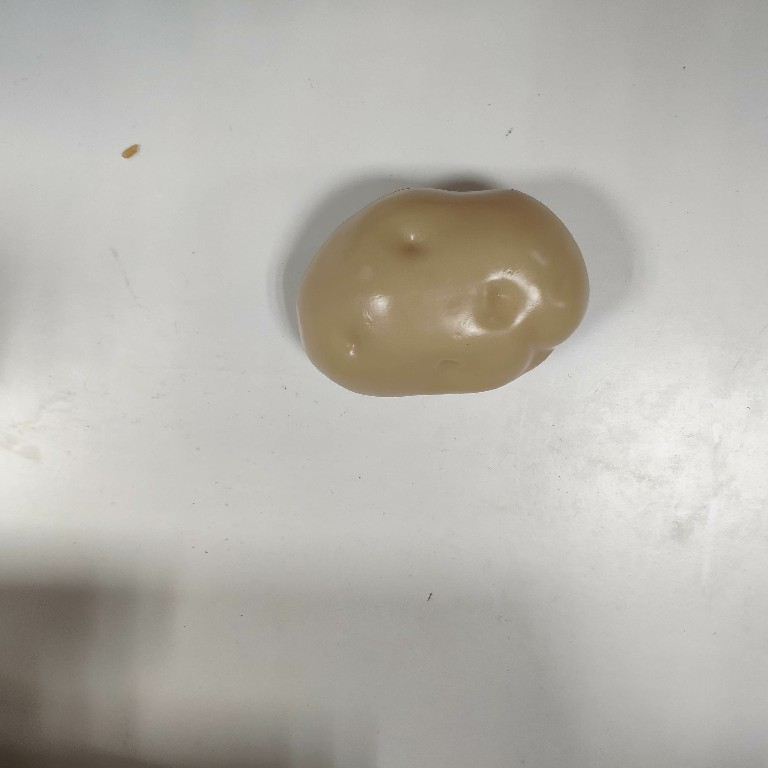fruit_potato: (290, 183, 593, 400)
